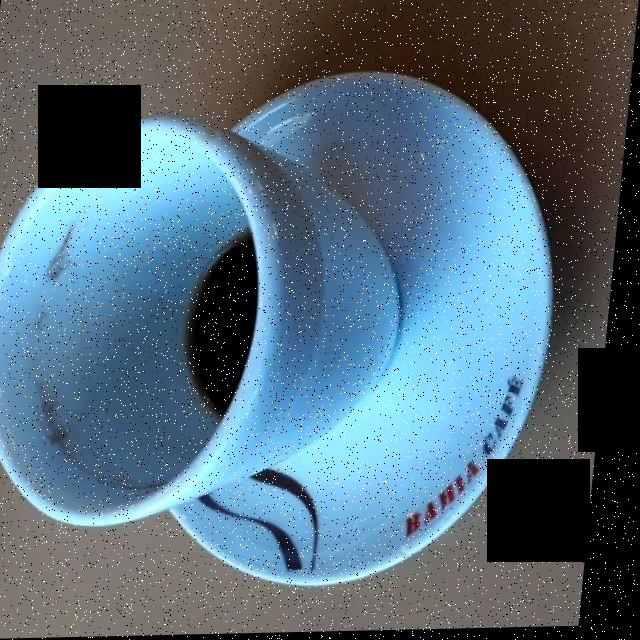espresso-with-caffeine: (184, 225, 266, 412)
